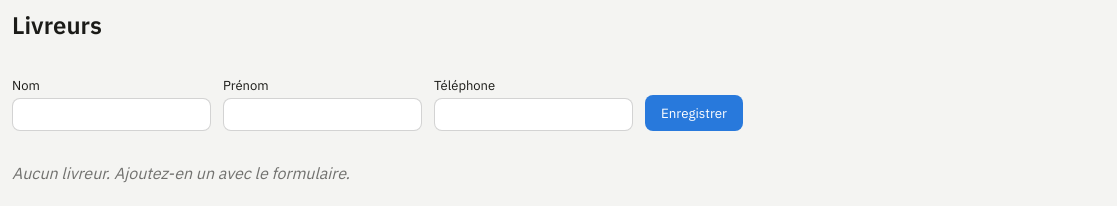
Test: LivreursSection › supprime un livreur
Type "Benali" into the field labelled "Nom" at (112, 114), box 12,98 -> 211,131
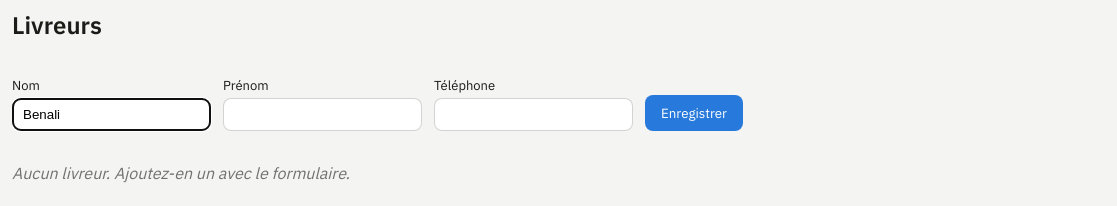
Type "Karim" into the field labelled "Prénom" at (322, 114), box 223,98 -> 422,131
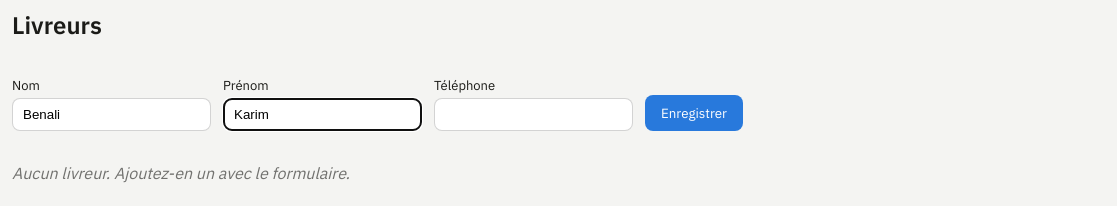
Click the button "Enregistrer" at (694, 113), box 645,95 -> 743,131
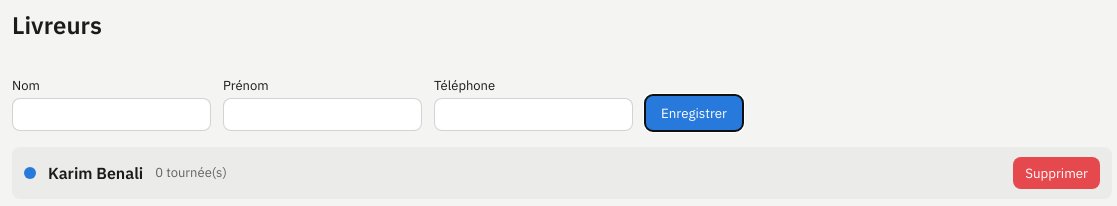
Click the button "Supprimer" at (1057, 173), box 1013,157 -> 1100,189
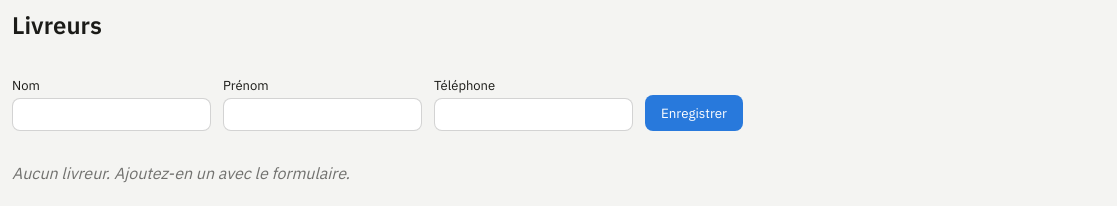
Expected: the text "Karim Benali" is gone
